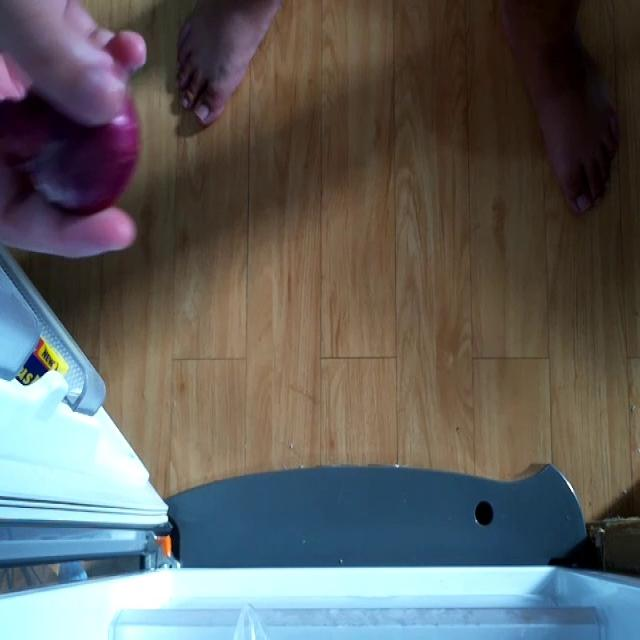onion: (0, 81, 139, 215)
